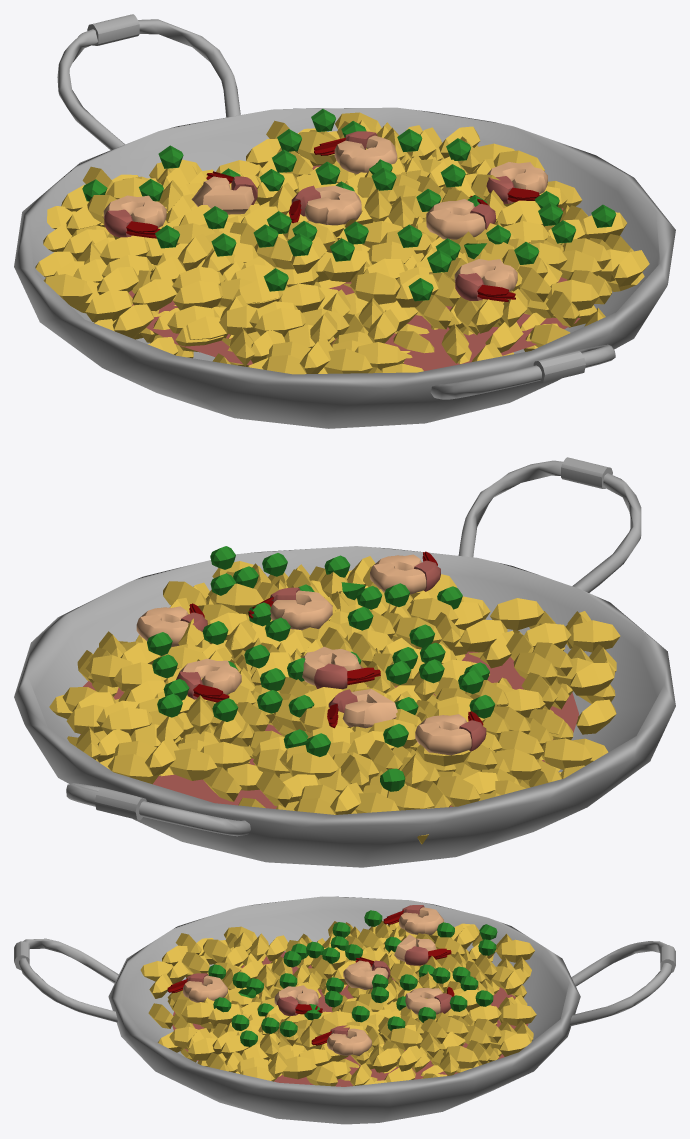
The model's file is paella.fbx.
3 renders of one model, top to bottom at view 1: azimuth 30°, elevation 25°; view 2: azimuth 150°, elevation 25°; view 3: azimuth 270°, elevation 25°, orthographic. The views are drawn at different scales.
Parts seen in each view (by area): view 1: nurbsToPoly2, paella_mix_model:body (×6), pDisc1, nurbsToPoly3, nurbsToPoly1, nurbsToPoly4, paella_mix_model:prawn_model:body, paella_mix_model:shell (×2), paella_mix_model:rice44, paella_mix_model:rice_pile:rice125, paella_mix_model:rice_pile:rice27, paella:pCylinder1 (+43 smaller); view 2: nurbsToPoly2, paella_mix_model:body (×6), pDisc1, nurbsToPoly4, nurbsToPoly5, nurbsToPoly1, paella_mix_model:rice33 (×2), paella_mix_model:prawn_model:body, paella_mix_model:rice176 (×2), rice28, rice176, paella_mix_model:rice_pile:rice72 (+40 smaller); view 3: nurbsToPoly2, paella_mix_model:body (×6), pDisc1, nurbsToPoly3, nurbsToPoly5, nurbsToPoly1, nurbsToPoly4, paella_mix_model:rice6 (×2), paella_mix_model:rice53 (×2), paella_mix_model:rice_pile:rice176, paella_mix_model:rice176, paella_mix_model:rice46 (+23 smaller).
Part boxes in pixels (x1,y1,x2,y2): nurbsToPoly2: [14, 107, 675, 428]; paella_mix_model:body (×6): [103, 135, 547, 291]; pDisc1: [128, 165, 580, 371]; nurbsToPoly3: [138, 19, 240, 117]; nurbsToPoly1: [57, 29, 124, 150]; nurbsToPoly4: [430, 365, 541, 399]; paella_mix_model:prawn_model:body: [191, 176, 254, 214]; paella_mix_model:shell (×2): [104, 209, 484, 300]; paella_mix_model:rice44: [350, 272, 400, 304]; paella_mix_model:rice_pile:rice125: [173, 280, 222, 310]; paella_mix_model:rice_pile:rice27: [85, 290, 132, 321]; paella:pCylinder1: [533, 351, 585, 383]; nurbsToPoly2: [14, 546, 675, 867]; paella_mix_model:body (×6): [136, 554, 471, 755]; pDisc1: [80, 651, 579, 808]; nurbsToPoly4: [572, 473, 641, 592]; nurbsToPoly5: [458, 460, 562, 557]; nurbsToPoly1: [139, 801, 250, 836]; paella_mix_model:rice33 (×2): [186, 583, 263, 734]; paella_mix_model:prawn_model:body: [342, 689, 397, 728]; paella_mix_model:rice176 (×2): [145, 581, 206, 775]; rice28: [490, 598, 544, 630]; rice176: [568, 620, 620, 652]; paella_mix_model:rice_pile:rice72: [541, 738, 592, 769]; nurbsToPoly2: [108, 896, 580, 1124]; paella_mix_model:body (×6): [182, 907, 443, 1056]; pDisc1: [172, 951, 528, 1086]; nurbsToPoly3: [570, 963, 671, 1026]; nurbsToPoly5: [19, 958, 117, 1022]; nurbsToPoly1: [571, 941, 666, 986]; nurbsToPoly4: [23, 938, 118, 983]; paella_mix_model:rice6 (×2): [208, 1004, 447, 1043]; paella_mix_model:rice53 (×2): [221, 1018, 502, 1058]; paella_mix_model:rice_pile:rice176: [496, 939, 534, 962]; paella_mix_model:rice176: [499, 1003, 536, 1025]; paella_mix_model:rice46: [281, 1056, 316, 1079].
Bounding box in the file's own units: 84.53 × 20.69 × 118.
